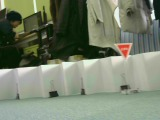stop: (114, 43, 136, 61)
